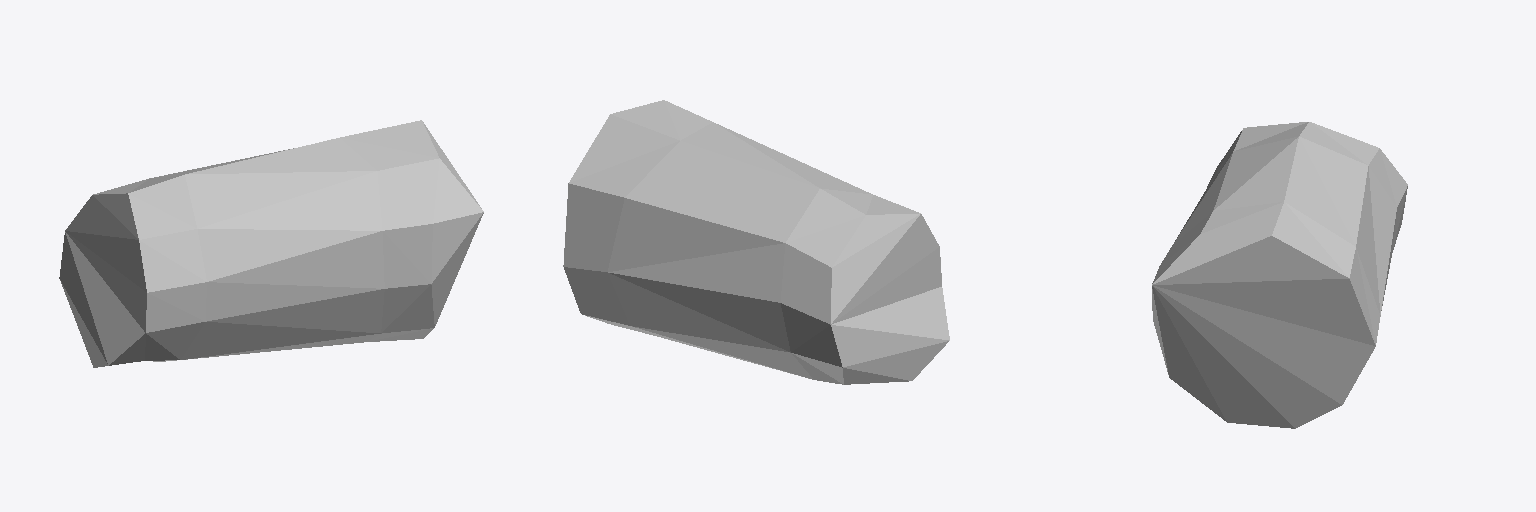
The model's file is ring2.obj.
3 views of the same model, side by side, from view 1: azimuth 30°, elevation 25°; view 2: azimuth 150°, elevation 25°; view 3: azimuth 270°, elevation 25° (orthographic).
Bounding box in the file's own units: 29.9 × 17.22 × 20.15.